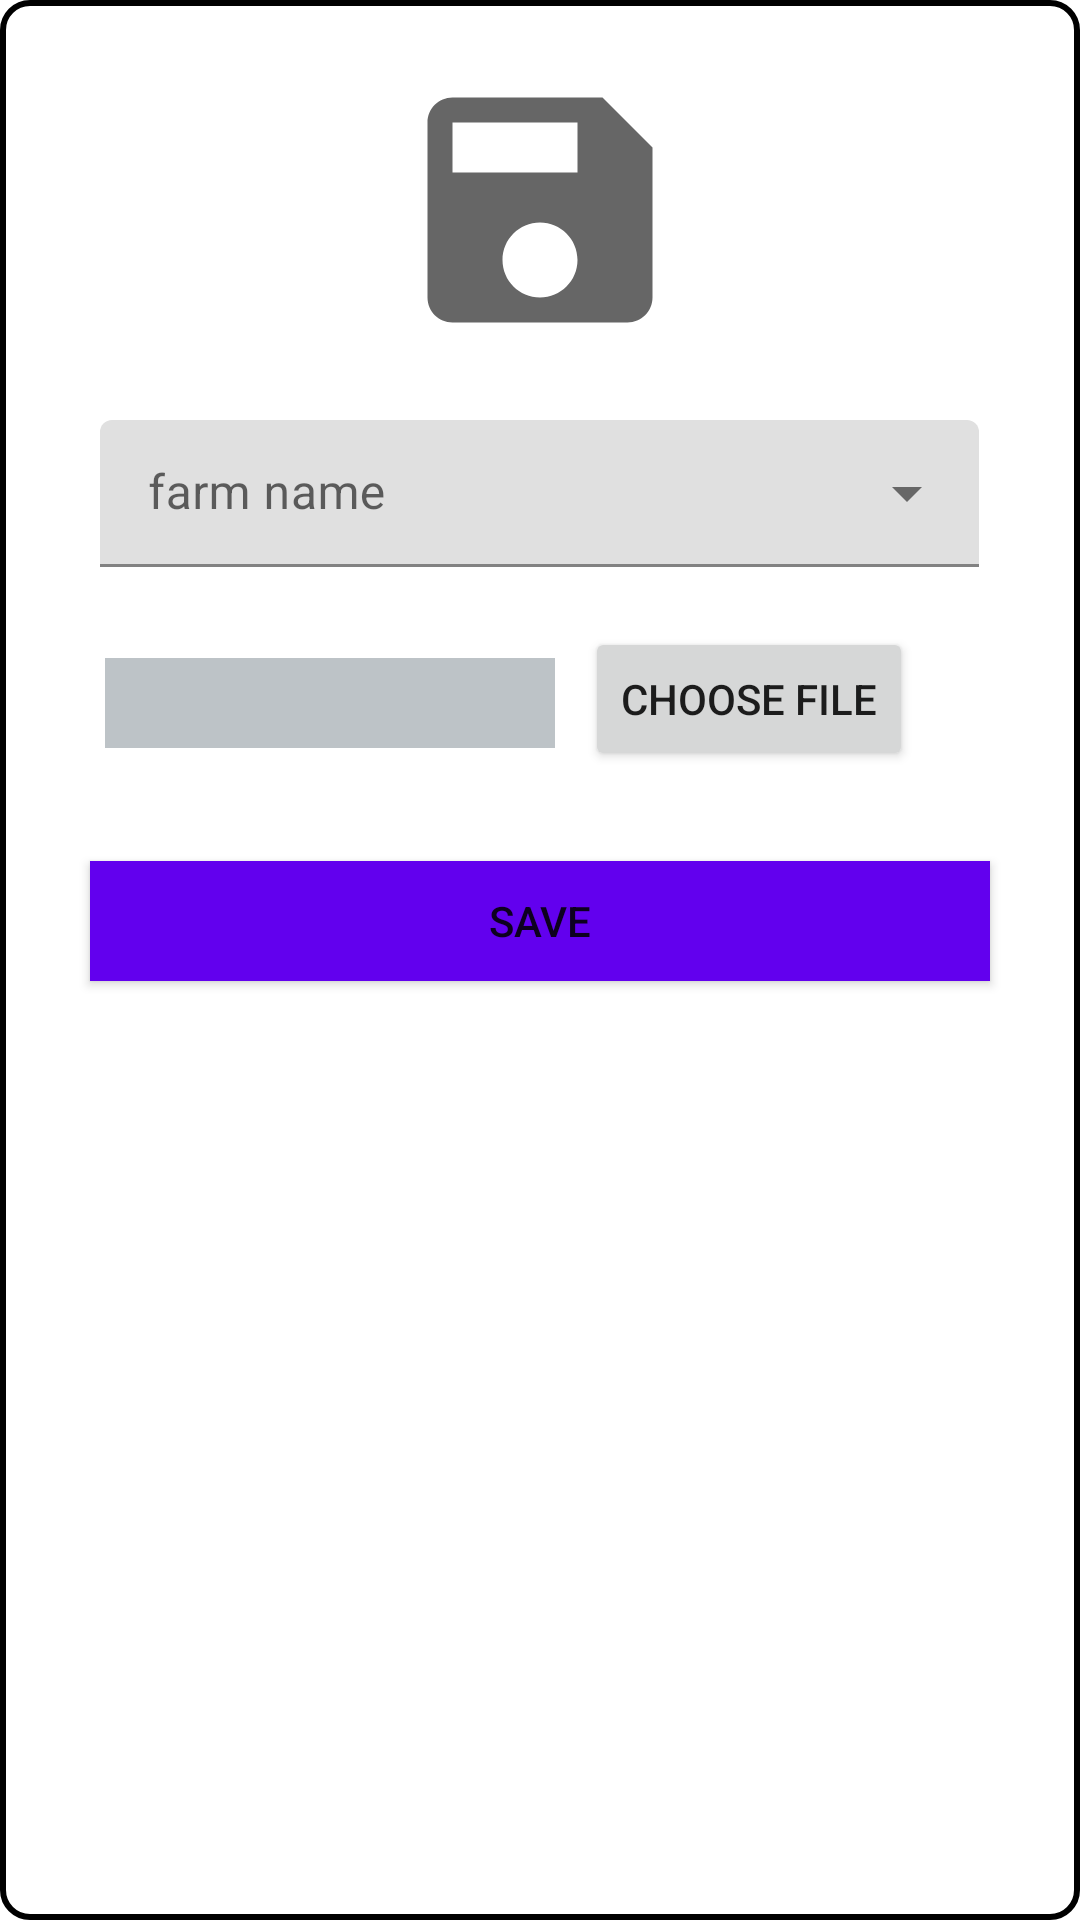

Icons on this 1080px x 1920px Android screen, each with its box as (x1, y1, x2, y2):
save: (427, 97, 653, 323)
